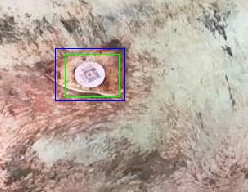text: (65, 54, 119, 96)
